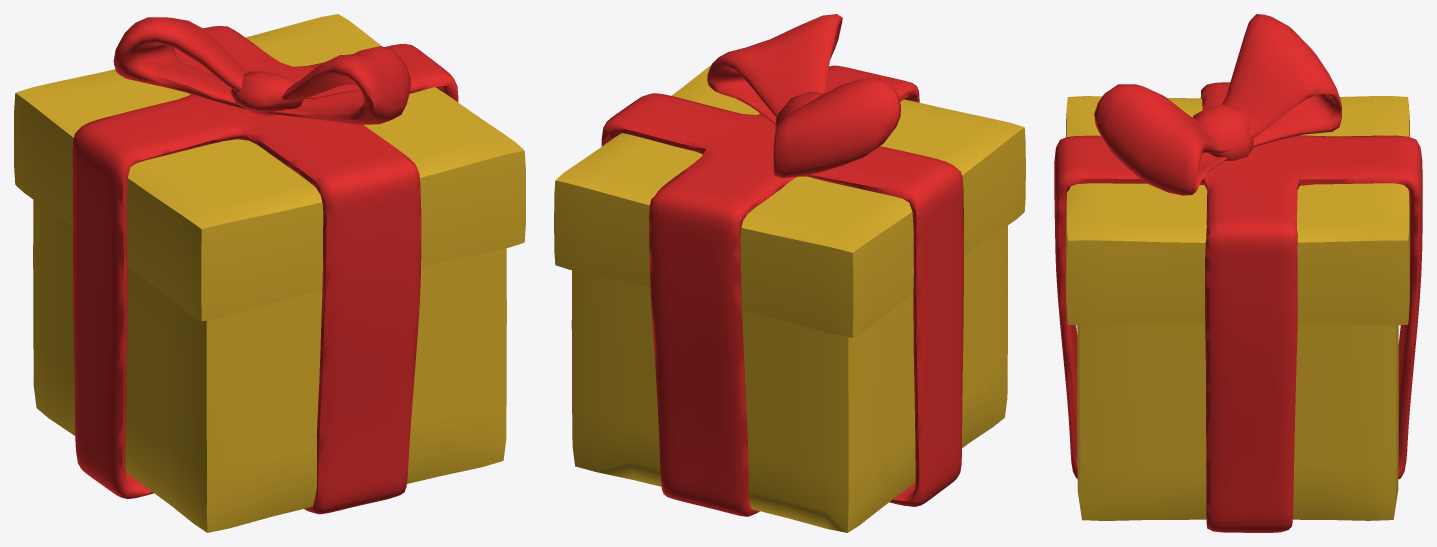
Rendered from present FBX.glb.
3 renders of one model, left to right at view 1: azimuth 30°, elevation 25°; view 2: azimuth 150°, elevation 25°; view 3: azimuth 270°, elevation 25°, orthographic. The views are drawn at different scales.
Parts seen in each view (by area): view 1: Present3, present5, Present4, Present2, Present; view 2: Present3, present5, Present4, Present2; view 3: Present3, present5, Present4, Present2, Present.
Boxes of the visible parts, box(x1,y1,x2,y2) form: Present3: box(72, 26, 458, 514); present5: box(33, 200, 506, 532); Present4: box(14, 14, 525, 321); Present2: box(113, 17, 410, 124); Present: box(231, 71, 303, 115); Present3: box(601, 65, 963, 516); present5: box(571, 225, 1007, 532); Present4: box(554, 65, 1025, 337); Present2: box(707, 14, 901, 178); Present3: box(1054, 82, 1422, 532); present5: box(1077, 323, 1398, 520); Present4: box(1066, 96, 1409, 325); Present2: box(1094, 14, 1341, 195); Present: box(1193, 104, 1253, 160).
Bounding box in the file's own units: 0.847 × 1.04 × 0.8533.
